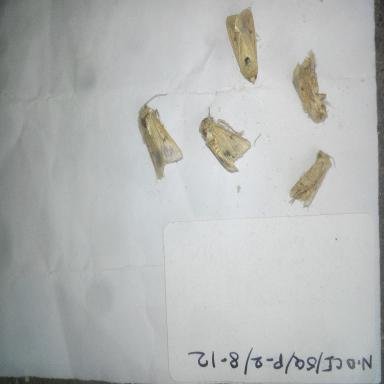abw: (135, 90, 185, 184), (196, 100, 254, 177), (290, 45, 336, 129), (224, 4, 266, 87), (286, 146, 338, 210)
